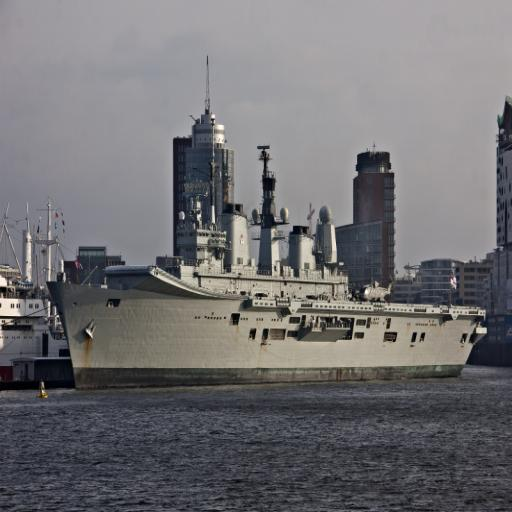Portanaves: (44, 178, 497, 398)
